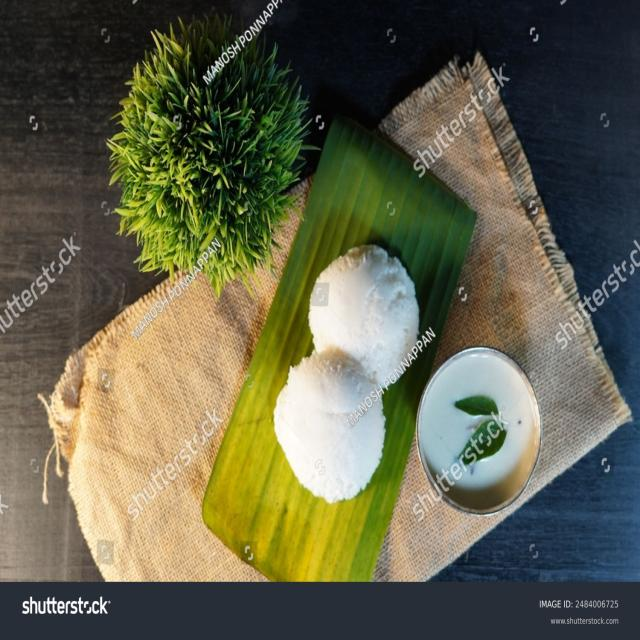IDLI: (273, 244, 420, 503)
